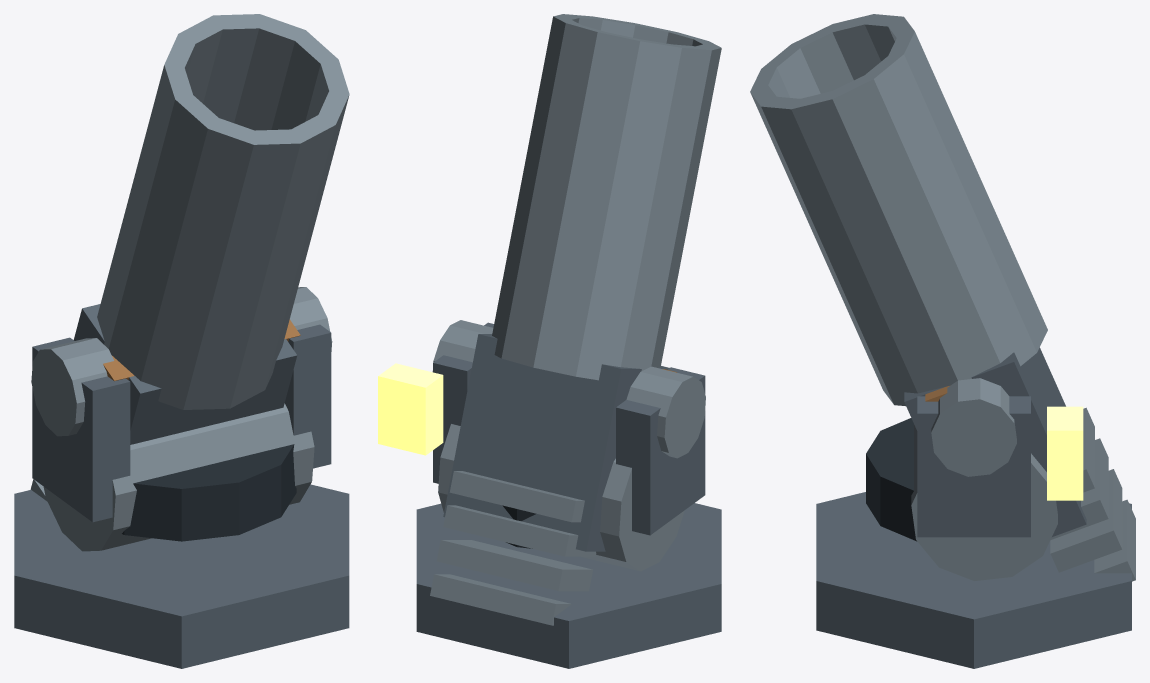
Rendered from mortar_t3_d0.meshopt.glb.
The picture shows the model from 3 angles, left to right: view 1: azimuth 30°, elevation 25°; view 2: azimuth 150°, elevation 25°; view 3: azimuth 270°, elevation 25°; orthographic projection. The views are drawn at different scales.
Parts seen in each view (by area): view 1: RECOIL_ARMOR_GEOMETRY, BASE_ARMOR_GEOMETRY, YAW_ARMOR_GEOMETRY; view 2: RECOIL_ARMOR_GEOMETRY, BASE_ARMOR_GEOMETRY, YAW_ARMOR_GEOMETRY, YAW_SIGNAL_GEOMETRY; view 3: RECOIL_ARMOR_GEOMETRY, BASE_ARMOR_GEOMETRY, YAW_ARMOR_GEOMETRY, YAW_SIGNAL_GEOMETRY.
Boxes of the visible parts, <box> form: RECOIL_ARMOR_GEOMETRY: <box>30,14,349,551</box>; BASE_ARMOR_GEOMETRY: <box>14,484,349,668</box>; YAW_ARMOR_GEOMETRY: <box>32,324,331,541</box>; RECOIL_ARMOR_GEOMETRY: <box>430,14,721,625</box>; BASE_ARMOR_GEOMETRY: <box>416,503,721,668</box>; YAW_ARMOR_GEOMETRY: <box>433,322,705,548</box>; YAW_SIGNAL_GEOMETRY: <box>378,363,443,455</box>; RECOIL_ARMOR_GEOMETRY: <box>750,14,1135,581</box>; BASE_ARMOR_GEOMETRY: <box>816,492,1131,668</box>; YAW_ARMOR_GEOMETRY: <box>866,396,1030,541</box>; YAW_SIGNAL_GEOMETRY: <box>1047,406,1083,500</box>.
Bounding box in the file's own units: 1.6 × 2.72 × 1.69.
